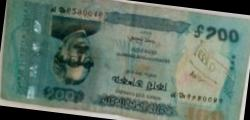100 taka: (9, 2, 243, 118)
